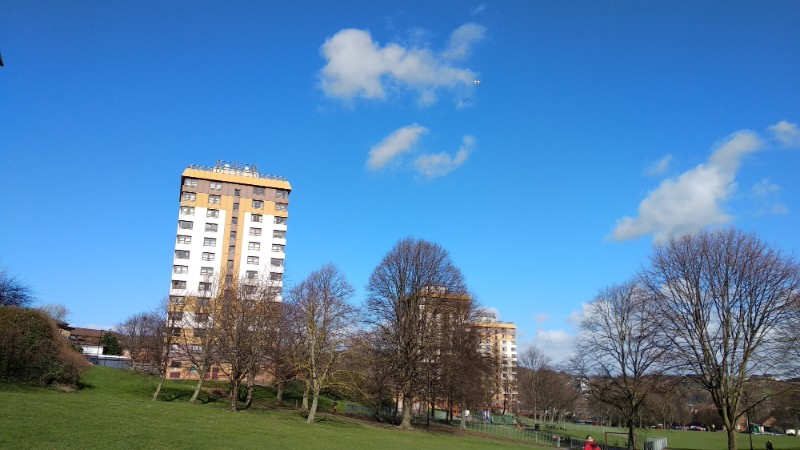drone: (472, 77, 482, 86)
